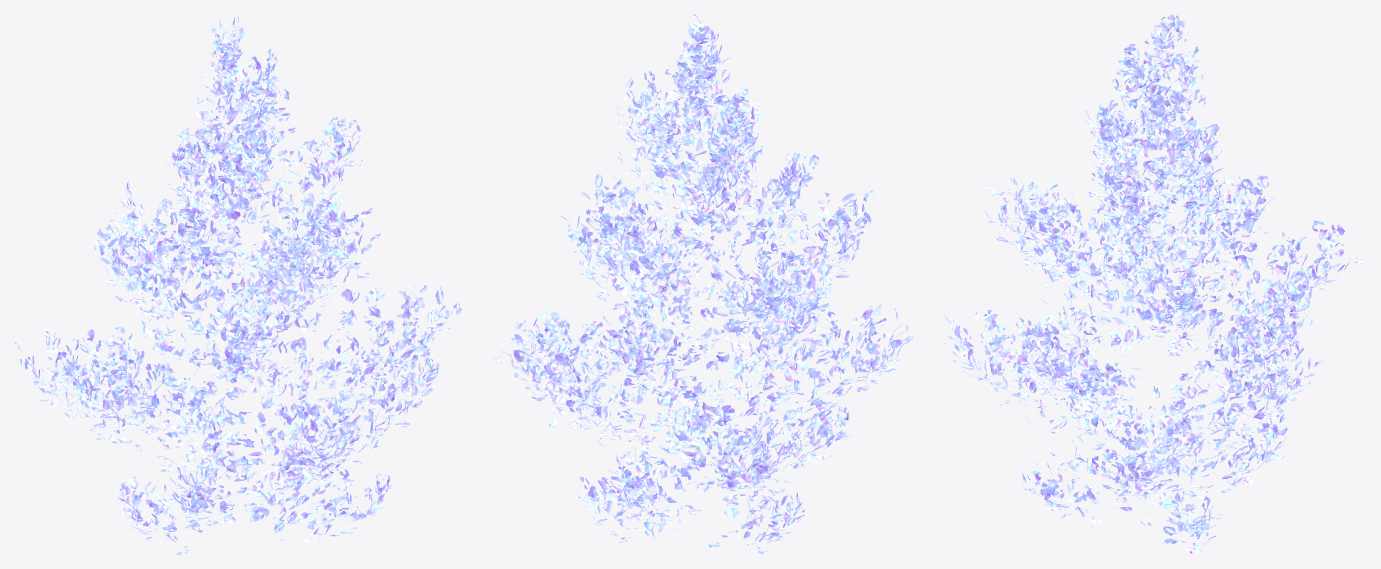
Rendered from tree.fbx.
3 views of the same model, side by side, from view 1: azimuth 30°, elevation 25°; view 2: azimuth 150°, elevation 25°; view 3: azimuth 270°, elevation 25° (orthographic). The views are drawn at different scales.
Visible parts, largest first — view 1: leaves.030; view 2: leaves.030; view 3: leaves.030.
Part boxes in pixels (bbox=[...]): leaves.030: bbox=[14, 14, 461, 554]; leaves.030: bbox=[492, 14, 913, 554]; leaves.030: bbox=[944, 14, 1366, 553].
Bounding box in the file's own units: 2005 × 2628 × 1986.
1 material, 1 textured.
